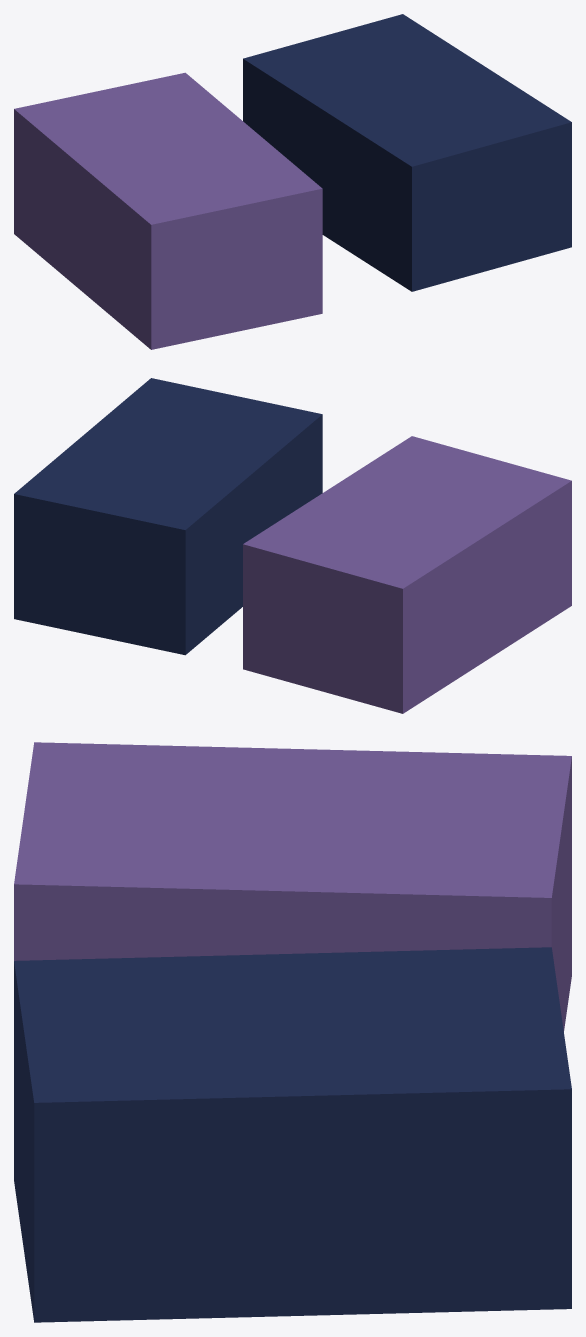
The model's file is feet.glb.
3 views of the same model, one above another, from view 1: azimuth 30°, elevation 25°; view 2: azimuth 150°, elevation 25°; view 3: azimuth 270°, elevation 25° (orthographic). The views are drawn at different scales.
Visible parts, largest first — view 1: boot_-1, boot_1; view 2: boot_-1, boot_1; view 3: boot_1, boot_-1.
Boxes of the visible parts, x1=… form: boot_-1: x1=14, y1=72, x2=322, y2=349; boot_1: x1=243, y1=14, x2=571, y2=291; boot_-1: x1=243, y1=436, x2=571, y2=713; boot_1: x1=14, y1=378, x2=322, y2=655; boot_1: x1=14, y1=947, x2=571, y2=1322; boot_-1: x1=14, y1=742, x2=571, y2=1031.
Bounding box in the file's own units: 0.6335 × 0.18 × 0.4143.
